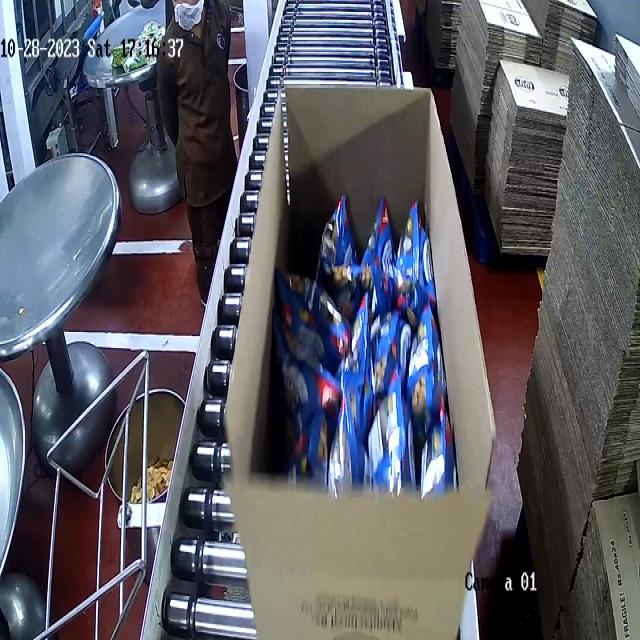PAPRIKA: (280, 183, 459, 482)
